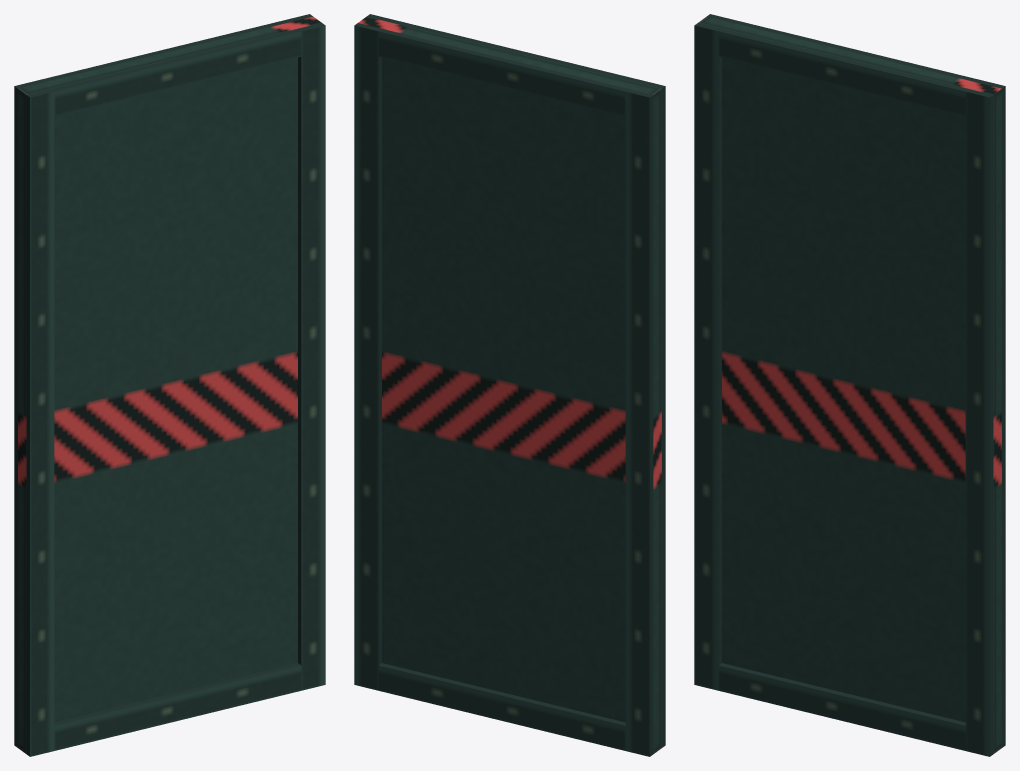
File: SM_Lab_DoorLeaf_Containment_98x209.fbx
3 views of the same model, side by side, from view 1: azimuth 30°, elevation 25°; view 2: azimuth 150°, elevation 25°; view 3: azimuth 330°, elevation 25° (orthographic).
Parts seen in each view (by area): view 1: SM_Lab_DoorLeaf_Containment_98x209; view 2: SM_Lab_DoorLeaf_Containment_98x209; view 3: SM_Lab_DoorLeaf_Containment_98x209.
Part boxes in pixels (x1,y1,x2,y2): SM_Lab_DoorLeaf_Containment_98x209: (14, 14, 325, 756); SM_Lab_DoorLeaf_Containment_98x209: (354, 14, 665, 756); SM_Lab_DoorLeaf_Containment_98x209: (694, 14, 1005, 756).
Bounding box in the file's own units: 0.98 × 2.09 × 0.09.
